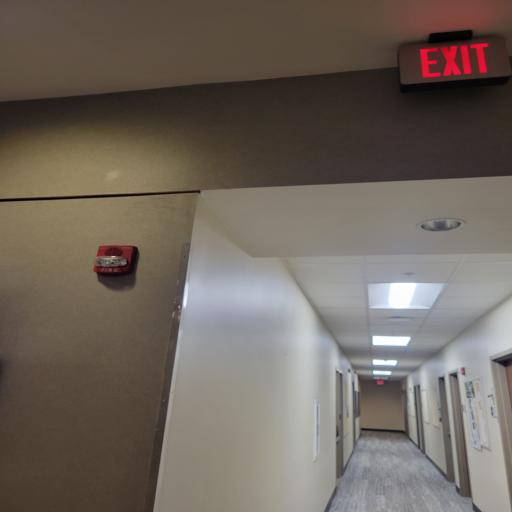exit sign: (382, 27, 512, 88)
fire alarm signal: (92, 239, 144, 280)
